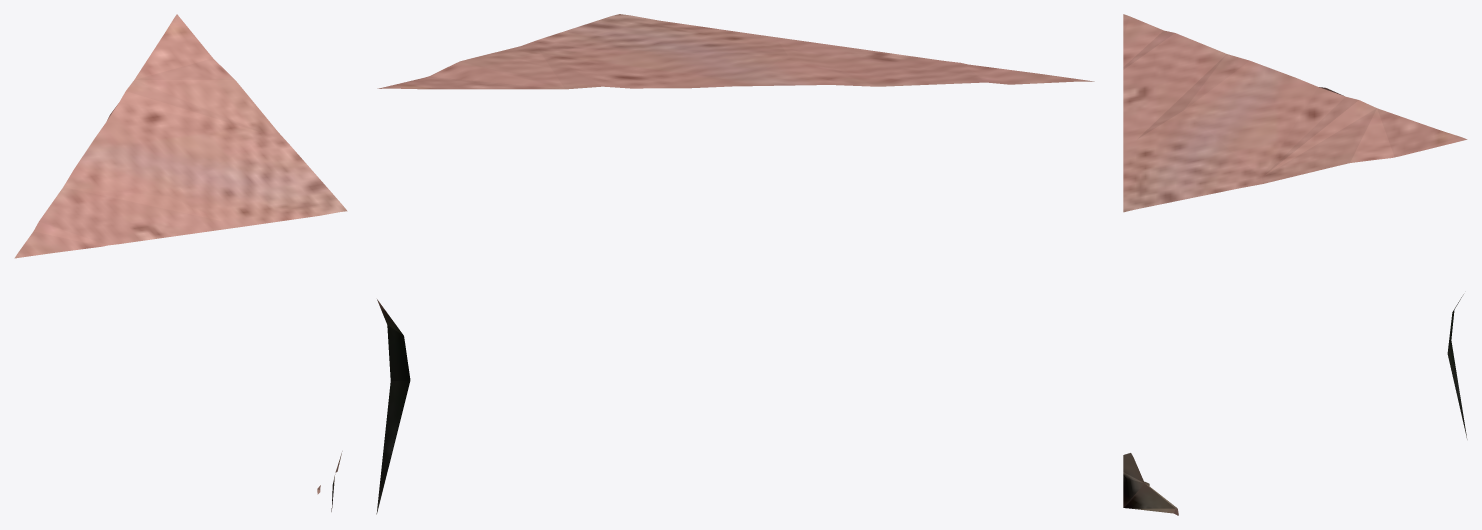
The picture shows the model from 3 angles, left to right: view 1: azimuth 30°, elevation 25°; view 2: azimuth 150°, elevation 25°; view 3: azimuth 270°, elevation 25°; orthographic projection. The views are drawn at different scales.
Bounding box in the file's own units: 3.9 × 4.17 × 3.46.
Materials: 1 (1 with a texture image).
